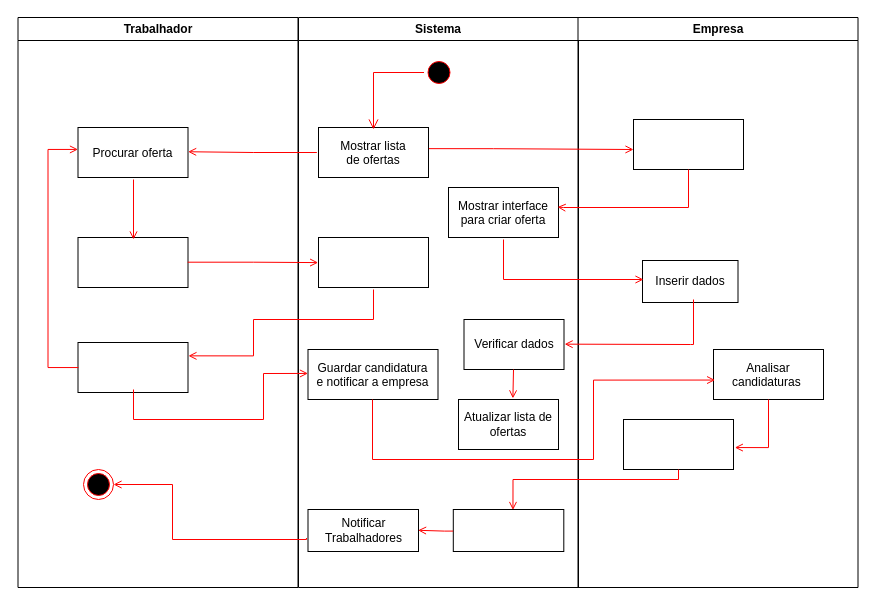
This 875x605 diagram has some shape labels left out. Here are the shapes that lost their labels. From the top down, the centre of each, then its label:
At pixel 688 144: "Selecionar adicionar oferta".
At pixel 132 262: "Selecionar oferta para ver detalhes".
At pixel 373 262: "Apresentar detalhes da oferta".
At pixel 132 367: "Efetuar candidatura ao emprego".
At pixel 678 444: "Aceitar/Negar candidaturas".
At pixel 508 530: "Atualizar estado candidaturas".
